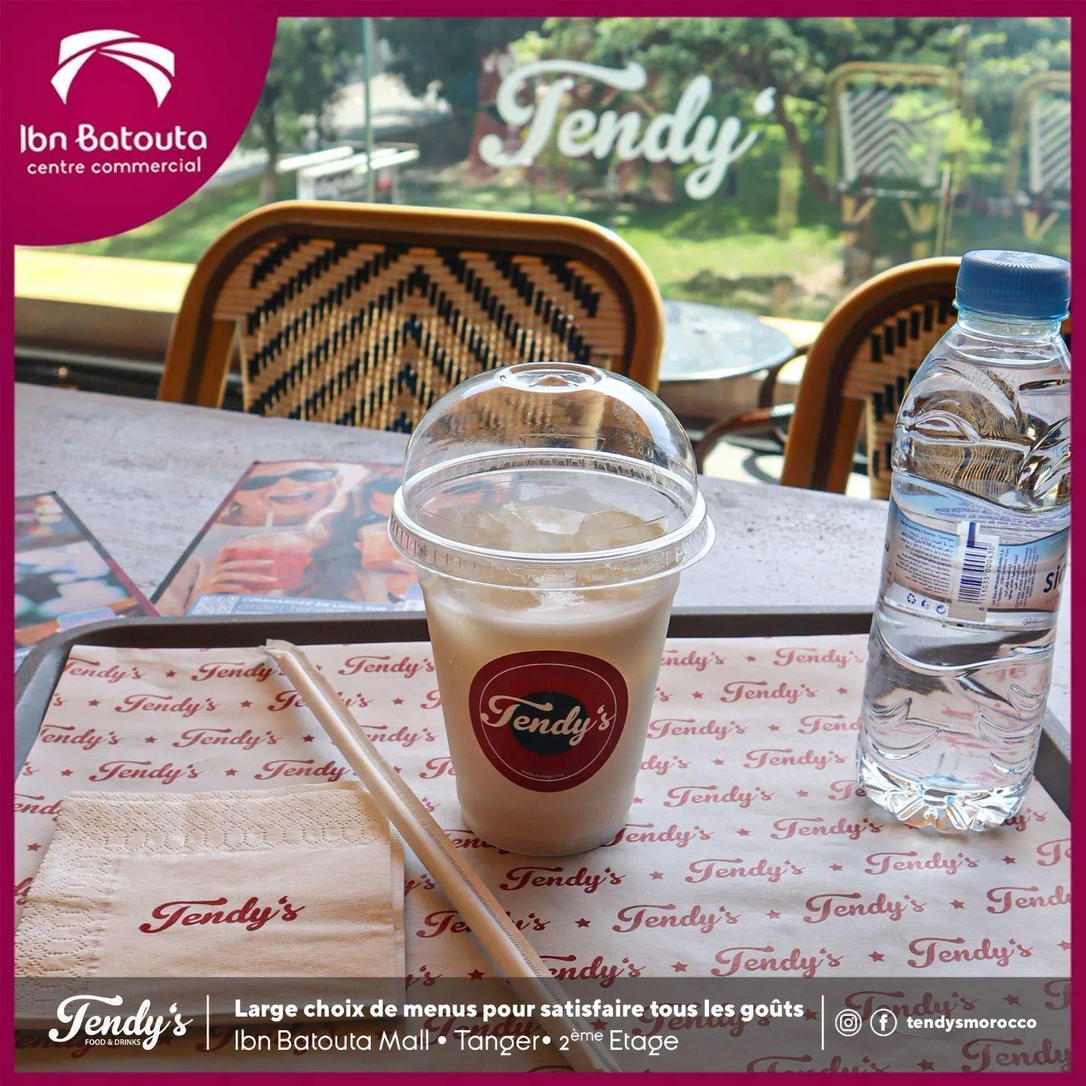bottle-plastic: (841, 235, 1086, 839)
cup-disposable: (385, 355, 723, 856)
